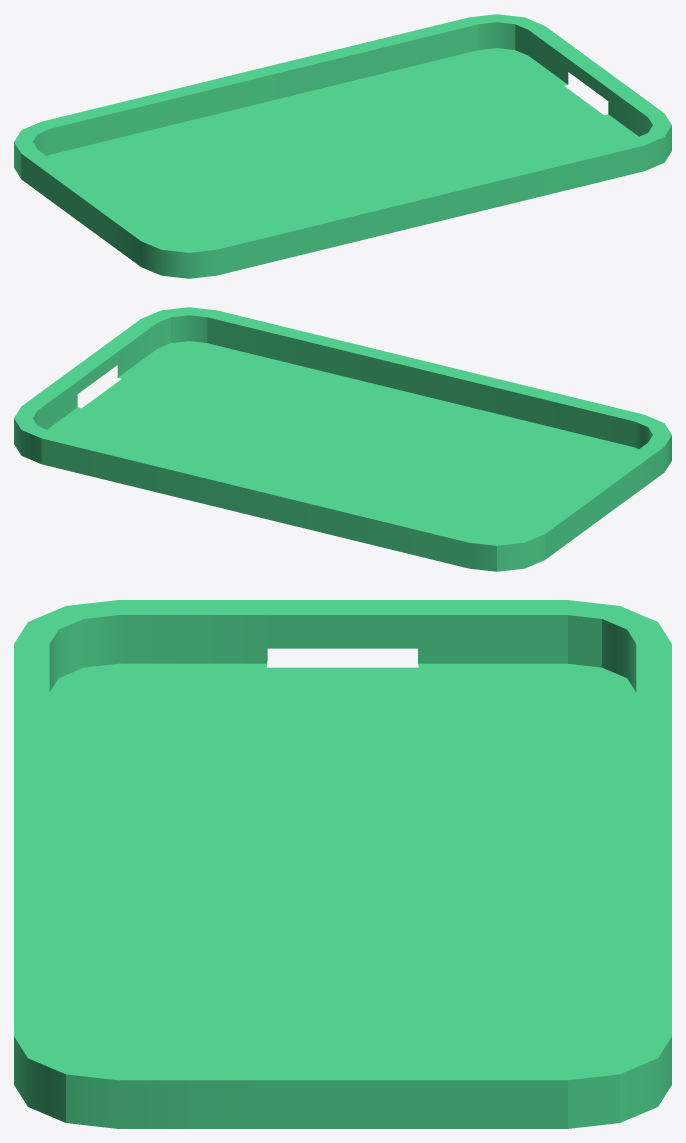
The model's file is field.glb.
3 renders of one model, top to bottom at view 1: azimuth 30°, elevation 25°; view 2: azimuth 150°, elevation 25°; view 3: azimuth 270°, elevation 25°, orthographic. The views are drawn at different scales.
Parts seen in each view (by area): view 1: table; view 2: table; view 3: table.
Boxes of the visible parts, x1,y1,x2,y2 form: table: [14, 14, 671, 278]; table: [14, 307, 671, 571]; table: [14, 600, 671, 1128].
Size of the model in its own units: 2.4 by 0.1135 by 1.39.
